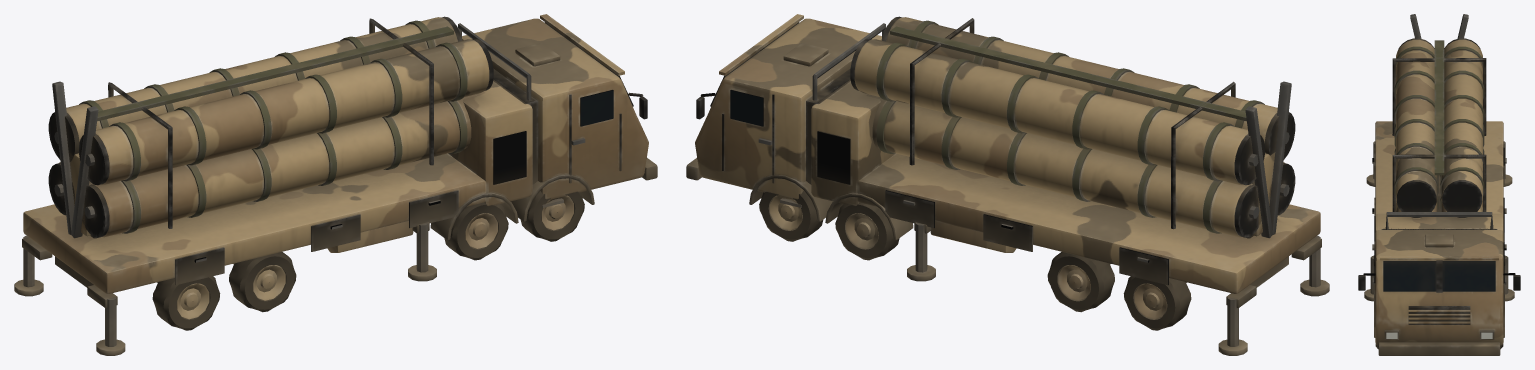
File: fh_battle_e_sam.glb
The picture shows the model from 3 angles, left to right: view 1: azimuth 30°, elevation 25°; view 2: azimuth 150°, elevation 25°; view 3: azimuth 270°, elevation 25°; orthographic projection. The views are drawn at different scales.
Parts seen in each view (by area): view 1: ground_sam, launcher; view 2: ground_sam, launcher; view 3: ground_sam, launcher.
Part boxes in pixels (x1,y1,x2,y2): ground_sam: (14, 14, 657, 355); launcher: (48, 16, 493, 238); ground_sam: (686, 14, 1329, 355); launcher: (850, 16, 1295, 238); ground_sam: (1358, 121, 1520, 355); launcher: (1392, 14, 1486, 218).
Size of the model in its own units: 1.03 by 0.3931 by 0.342.
2 materials, 2 textured.
